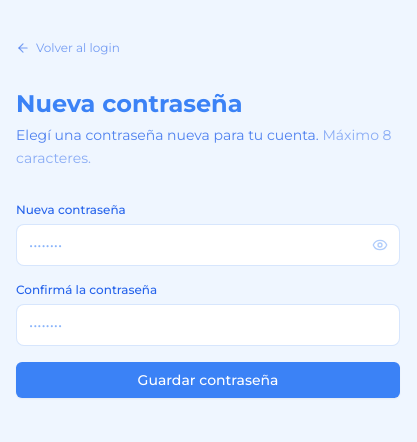
Test: NuevaPasswordPage › con token en la URL › debería mostrar error si las contraseñas no coinciden
Type "abc123" into the password field with id "clave" at (208, 245), box [16,224,400,266]
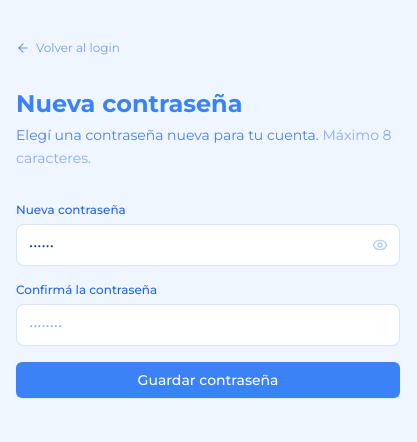
Type "xyz789" into the password field with id "confirm" at (208, 325), box [16,304,400,346]
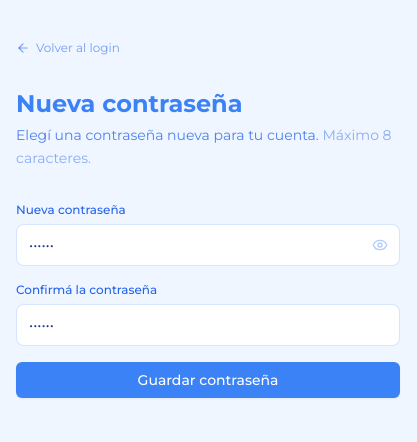
Submit the form, box [16,202,400,398]
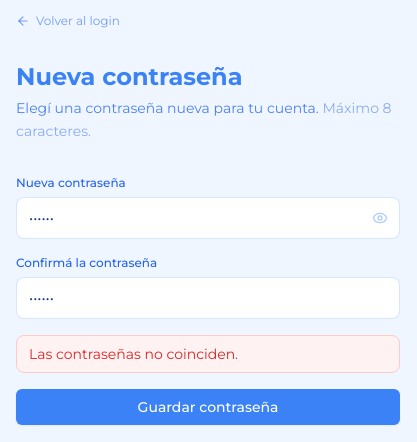
Check: the text "Las contraseñas no coinciden." is shown, box [16,335,400,373]
